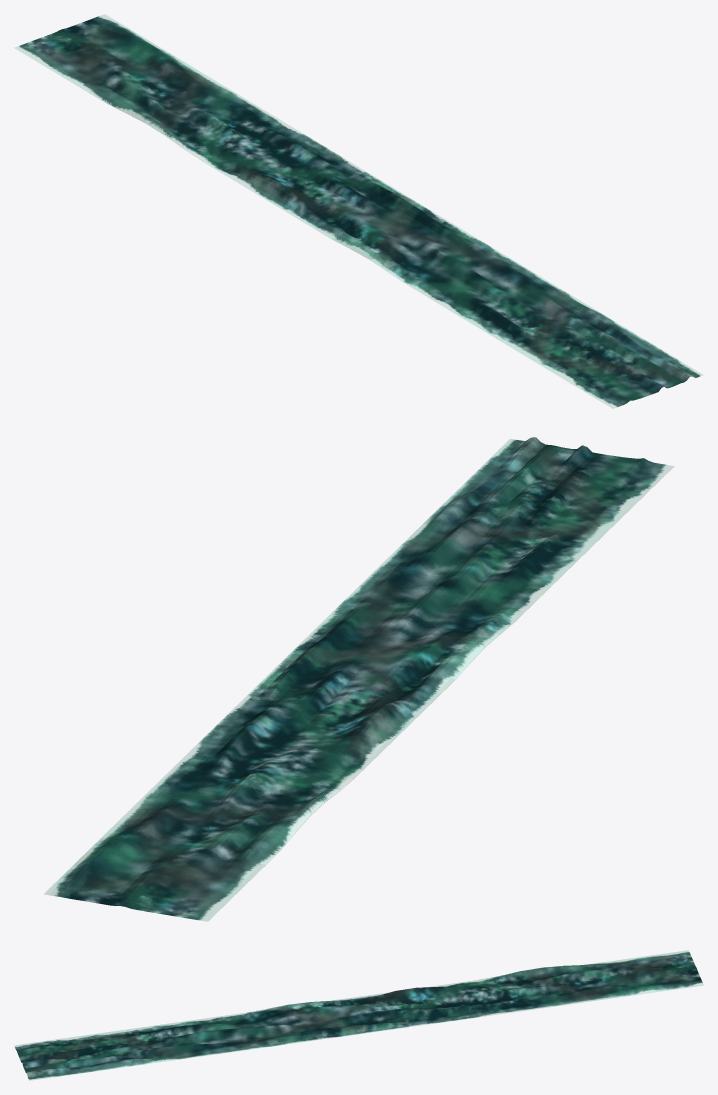
Rendered from Rio.fbx.
3 views of the same model, one above another, from view 1: azimuth 30°, elevation 25°; view 2: azimuth 150°, elevation 25°; view 3: azimuth 270°, elevation 25° (orthographic). The views are drawn at different scales.
Visible parts, largest first — view 1: Rio; view 2: Rio; view 3: Rio.
Boxes of the visible parts, left/top/right/bottom form: Rio: left=14, top=14, right=703, bottom=408; Rio: left=44, top=437, right=674, bottom=921; Rio: left=14, top=950, right=703, bottom=1080.
Bounding box in the file's own units: 7085 × 1733 × 23707.
1 material, 1 textured.
